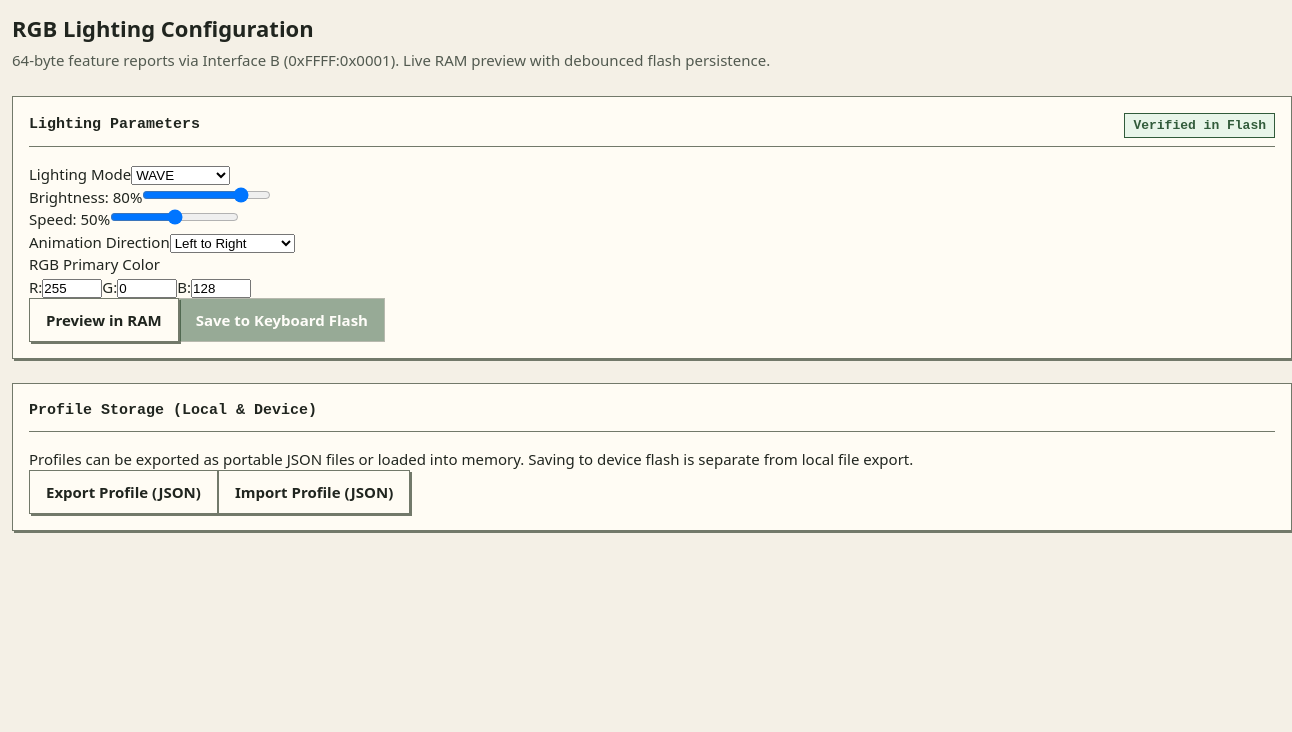
LightingPage Workflow and Safety Rails › requires accepted RAM preview before enabling Save to Keyboard Flash
This screenshot has width=1292, height=732.
Expected: the heading "RGB Lighting Configuration" is shown, [12,13,314,43]
Expected: the button "Save to Keyboard Flash" is disabled, [179,298,385,342]
Now click Preview in RAM
Click the button "Preview in RAM". click: [104, 320]
box: [29,298,179,342]
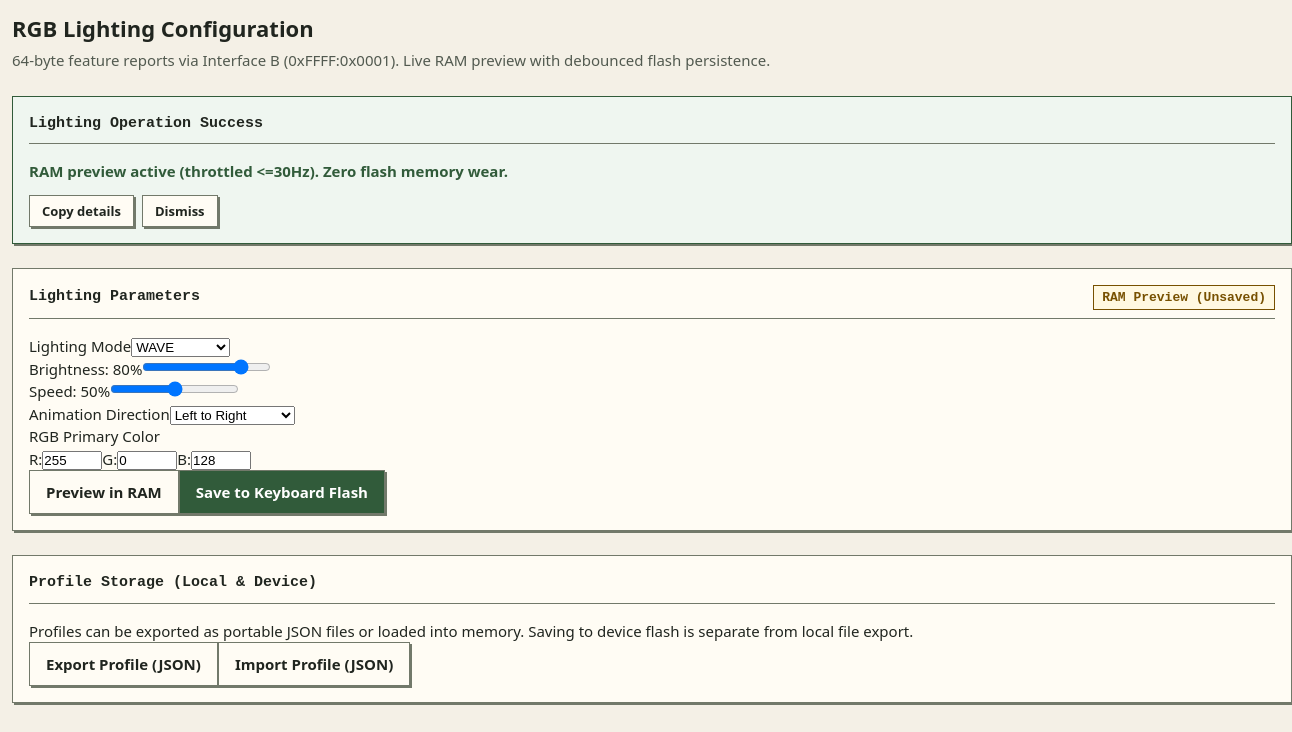
Now the text "RAM preview active" is shown, box [29,161,508,181]
Now the button "Save to Keyboard Flash" is enabled, box [179,470,385,514]
